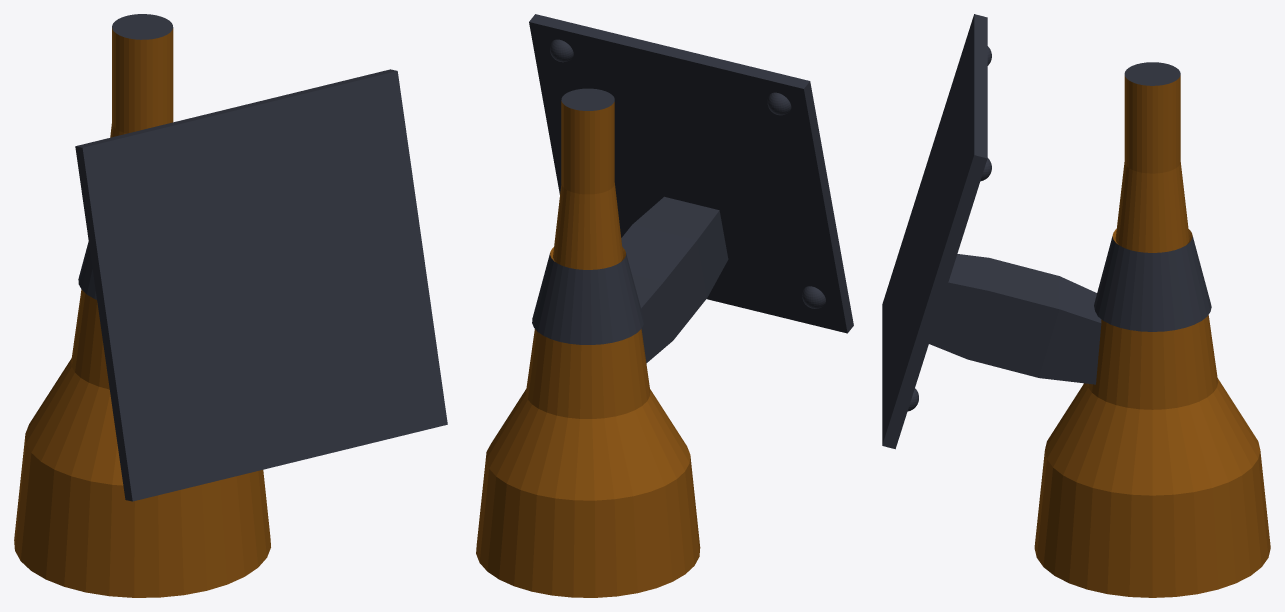
The model's file is wand torch.fbx.
3 renders of one model, left to right at view 1: azimuth 30°, elevation 25°; view 2: azimuth 150°, elevation 25°; view 3: azimuth 270°, elevation 25°, orthographic. The views are drawn at different scales.
Parts seen in each view (by area): view 1: Cylinder.005; view 2: Cylinder.005; view 3: Cylinder.005.
Part boxes in pixels (bbox=[...]): Cylinder.005: bbox=[14, 14, 447, 597]; Cylinder.005: bbox=[476, 14, 853, 597]; Cylinder.005: bbox=[882, 14, 1270, 597].
Size of the model in its own units: 1.82 by 2.84 by 2.11.
